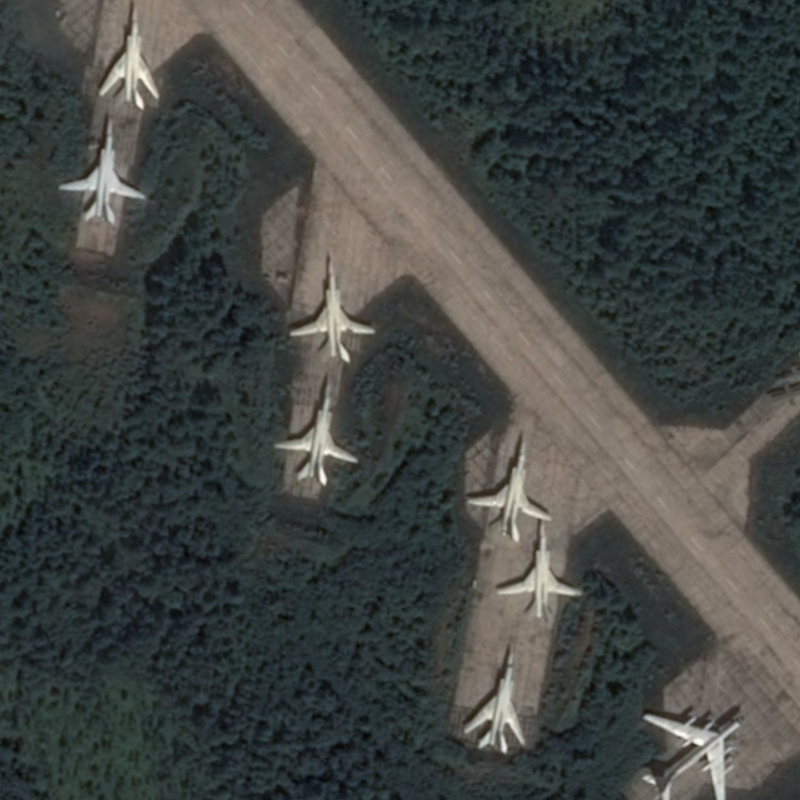A12: (53, 112, 149, 230), (269, 370, 359, 490), (284, 249, 377, 364), (462, 438, 555, 545), (493, 516, 584, 622), (459, 642, 528, 759), (95, 1, 160, 111)
A17: (637, 707, 748, 800)
